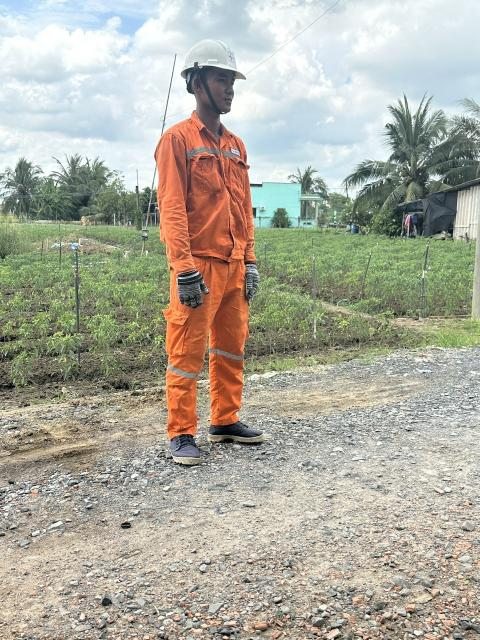gloves: (163, 262, 218, 321), (242, 263, 267, 302)
helmet: (178, 28, 247, 85)
shoes: (202, 408, 273, 450), (158, 428, 210, 478)
